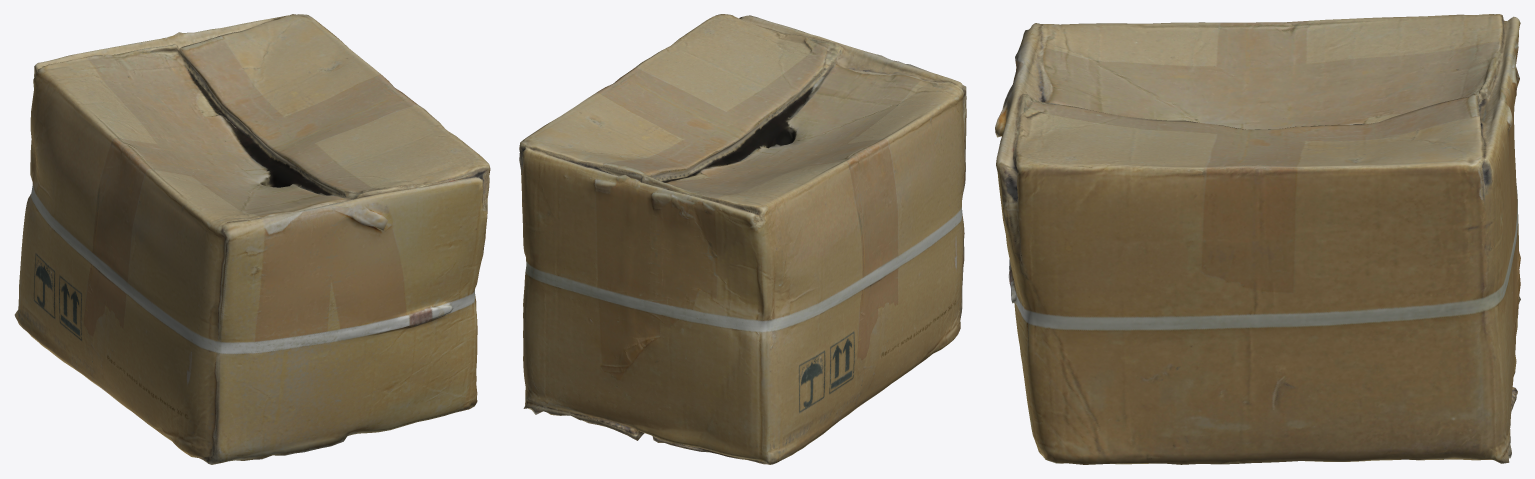
File: cardboard_box_01_2k.fbx
3 views of the same model, side by side, from view 1: azimuth 30°, elevation 25°; view 2: azimuth 150°, elevation 25°; view 3: azimuth 270°, elevation 25° (orthographic). The views are drawn at different scales.
Parts seen in each view (by area): view 1: cardboard_box_01; view 2: cardboard_box_01; view 3: cardboard_box_01.
Part boxes in pixels (<box>): cardboard_box_01: <box>14,14,490,464</box>; cardboard_box_01: <box>519,14,966,464</box>; cardboard_box_01: <box>995,14,1520,464</box>.
Size of the model in its own units: 38.7 by 34.18 by 51.59.
